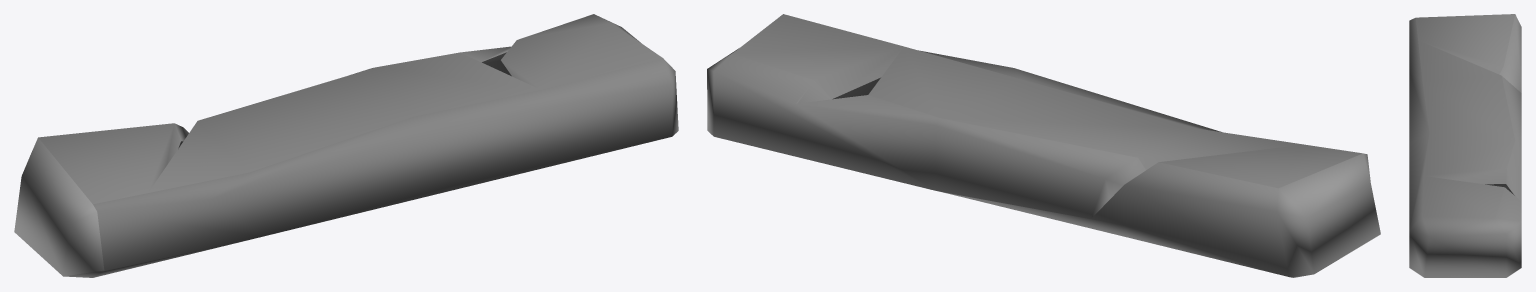
Rendered from Slab_02.fbx.
3 views of the same model, side by side, from view 1: azimuth 30°, elevation 25°; view 2: azimuth 150°, elevation 25°; view 3: azimuth 270°, elevation 25° (orthographic). The views are drawn at different scales.
Visible parts, largest first — view 1: Cube.003; view 2: Cube.003; view 3: Cube.003.
Part boxes in pixels (bbox=[...]): Cube.003: bbox=[14, 14, 678, 277]; Cube.003: bbox=[707, 14, 1380, 277]; Cube.003: bbox=[1409, 14, 1521, 277].
Size of the model in its own units: 397 by 54.04 by 87.66.
